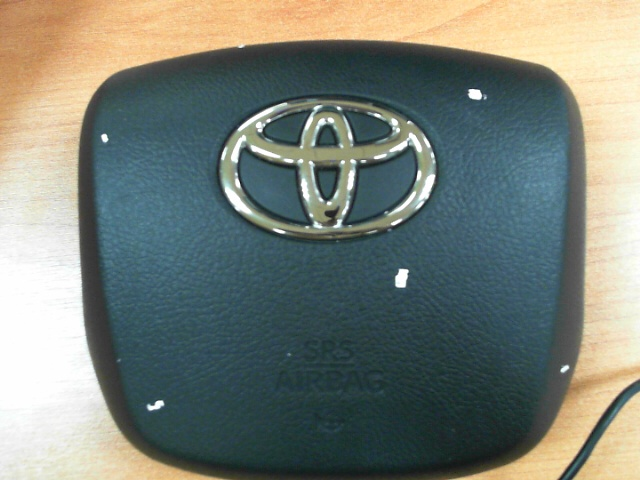Airbag: (145, 398, 166, 413), (394, 267, 409, 288), (466, 87, 487, 102), (99, 131, 110, 144), (560, 363, 570, 376), (238, 44, 245, 49)
